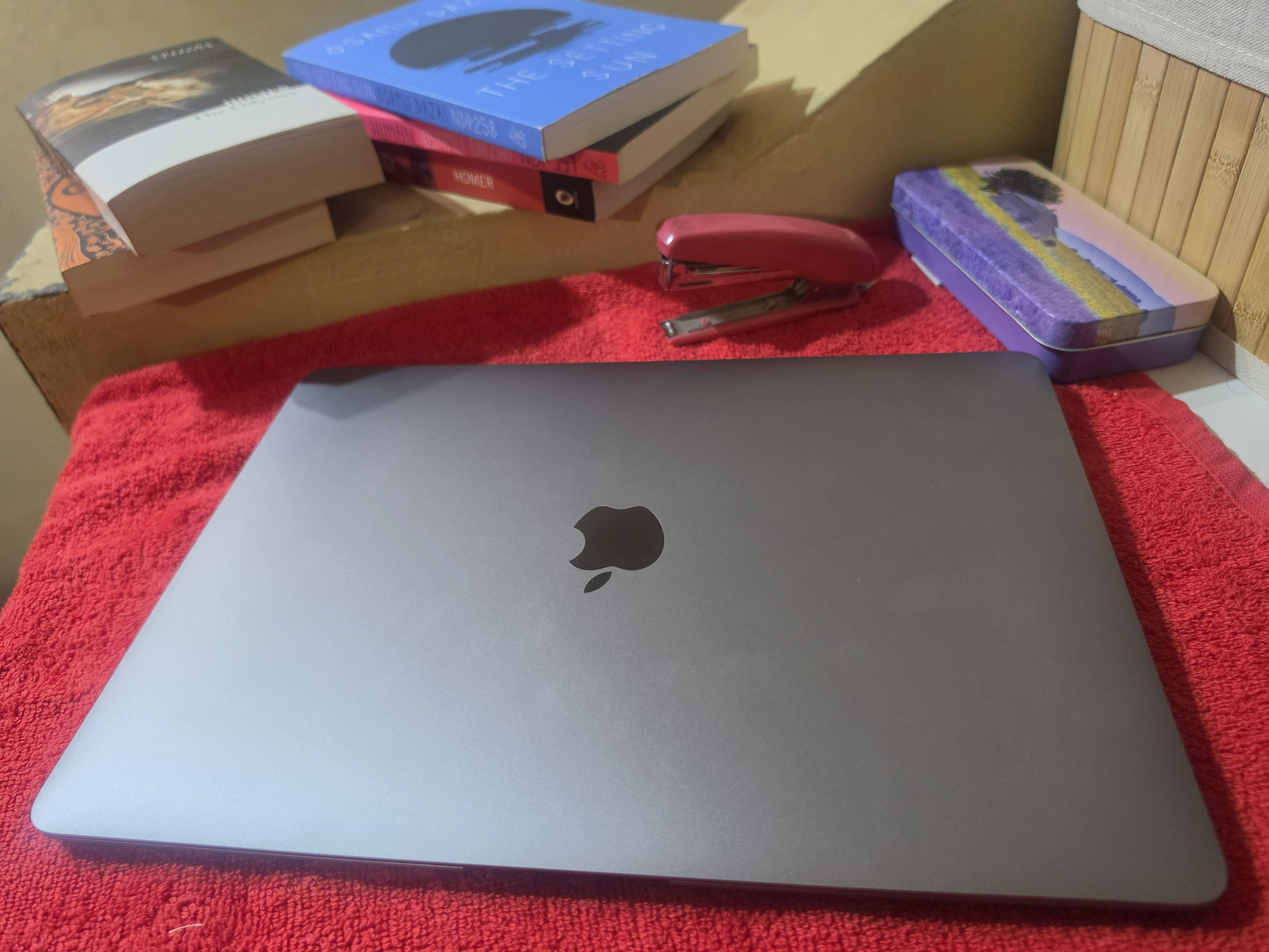laptop: (30, 351, 1230, 909)
